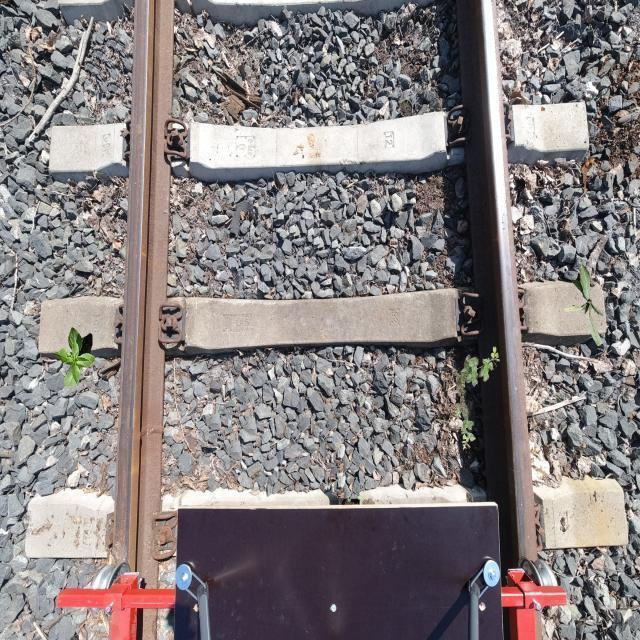Plant: (452, 347, 500, 450), (564, 264, 604, 346), (53, 327, 95, 387)
